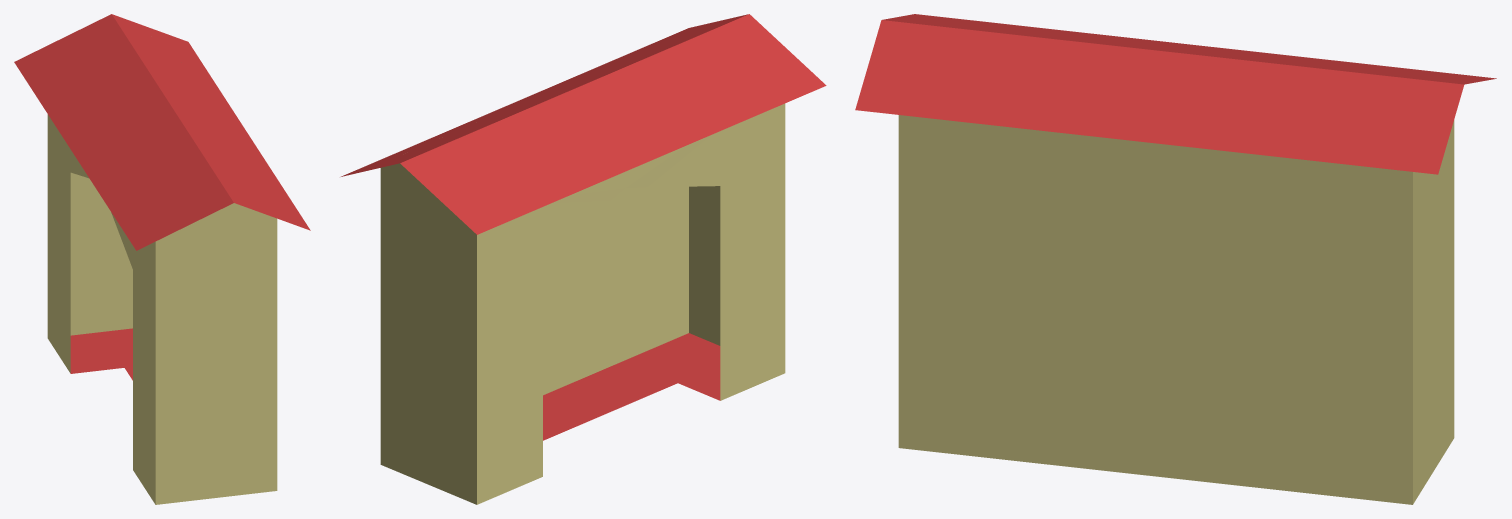
The picture shows the model from 3 angles, left to right: view 1: azimuth 30°, elevation 25°; view 2: azimuth 150°, elevation 25°; view 3: azimuth 270°, elevation 25°; orthographic projection. The views are drawn at different scales.
Parts seen in each view (by area): view 1: group_5, group_3, group_6, group_4; view 2: group_5, group_3, group_6, group_4; view 3: group_5, group_3, group_4.
Part boxes in pixels (x1,y1,x2,y2): group_5: (47, 114, 277, 504); group_3: (14, 14, 310, 250); group_6: (70, 328, 132, 380); group_4: (100, 14, 234, 202); group_5: (380, 103, 785, 504); group_3: (346, 14, 826, 234); group_6: (543, 333, 720, 440); group_4: (341, 15, 745, 176); group_5: (898, 115, 1454, 504); group_3: (855, 14, 1496, 174); group_4: (882, 20, 1463, 174).
Size of the model in its own units: 8.03 by 13.56 by 9.23.
